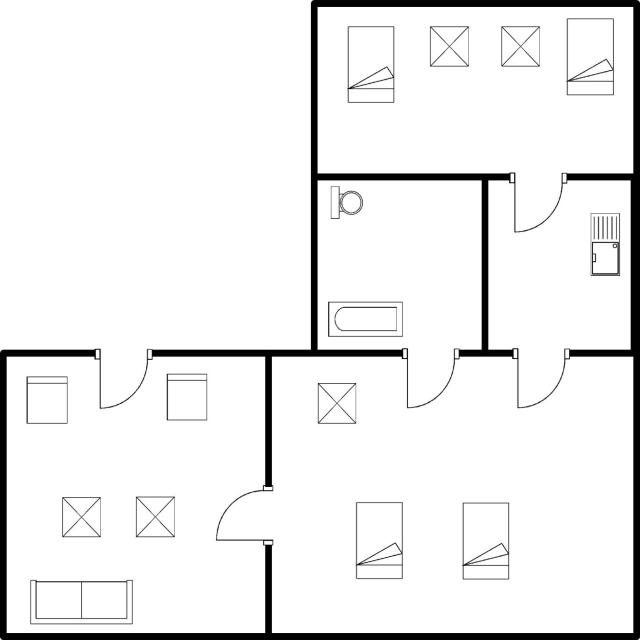bed: (560, 12, 618, 100), (341, 22, 399, 108), (351, 497, 407, 586), (457, 497, 513, 585)
coffee_table: (494, 21, 545, 70), (426, 20, 472, 74), (58, 492, 105, 542), (131, 492, 177, 543), (313, 377, 358, 429)
large_sink: (325, 183, 366, 226)
large_sofa: (26, 574, 138, 628)
sink: (587, 208, 625, 278)
small_sofa: (162, 368, 211, 426), (21, 372, 71, 427)
tub: (323, 295, 408, 342)
